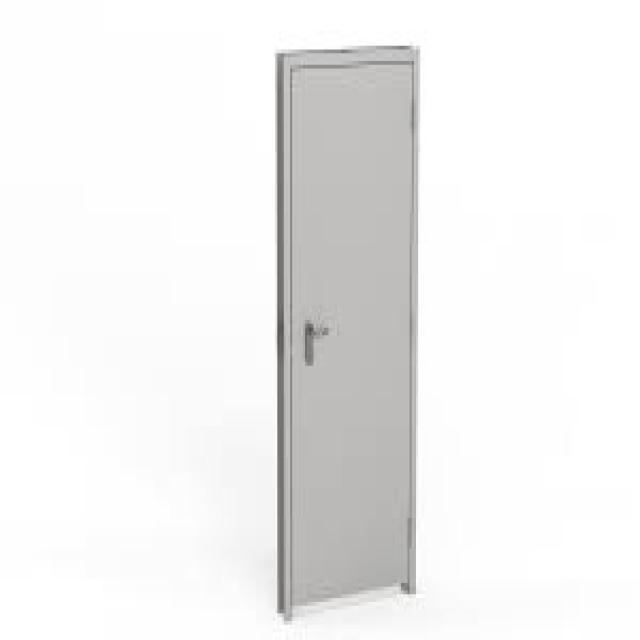door: (276, 44, 419, 619)
